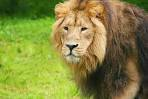lion: (50, 1, 146, 99)
